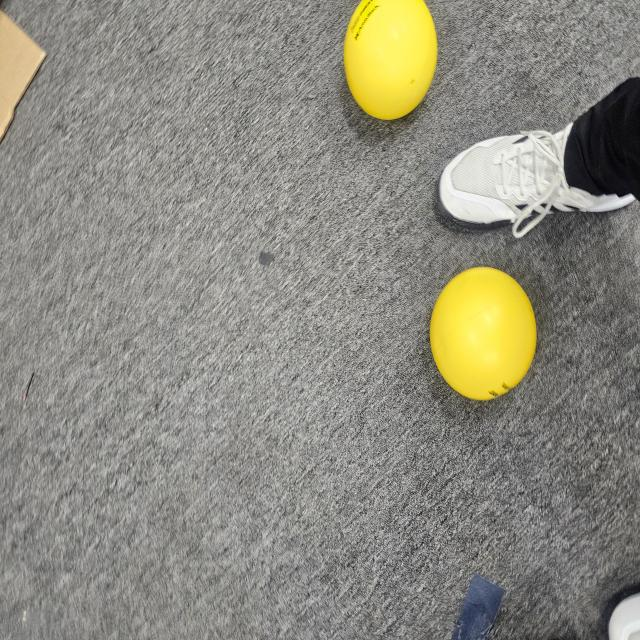Fuel: (421, 262, 545, 407), (327, 0, 446, 131)
